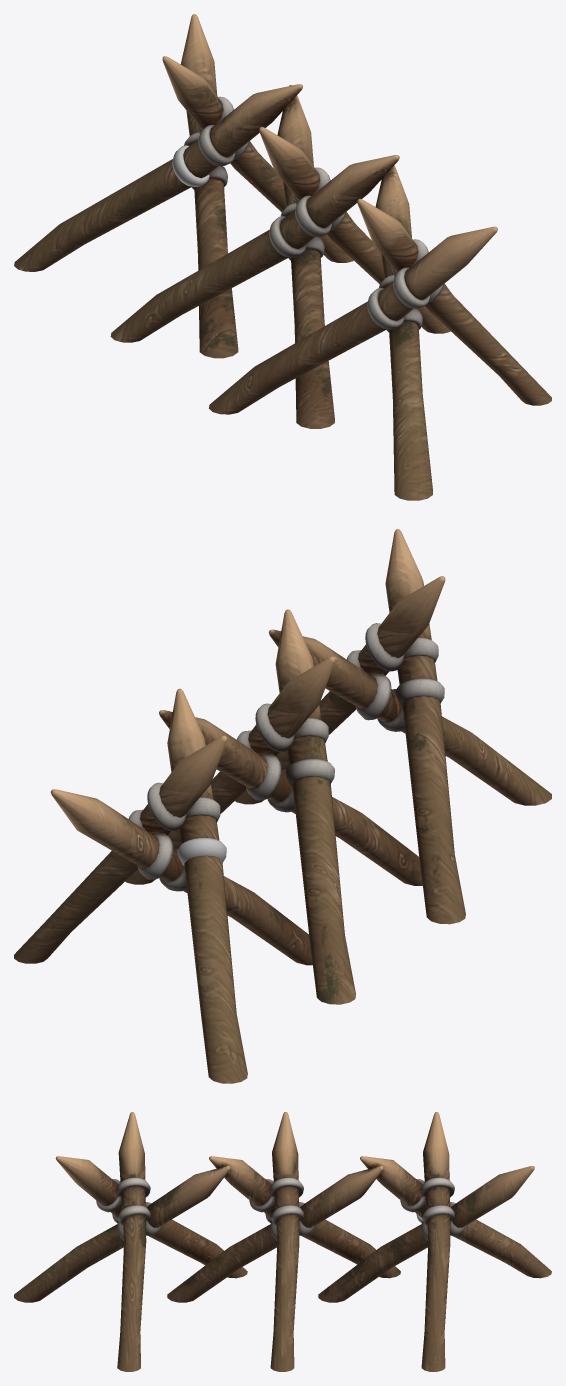
File: WoodenFence.fbx
The picture shows the model from 3 angles, top to bottom: view 1: azimuth 30°, elevation 25°; view 2: azimuth 150°, elevation 25°; view 3: azimuth 270°, elevation 25°; orthographic projection. The views are drawn at different scales.
Parts seen in each view (by area): view 1: Cylinder.003; view 2: Cylinder.003; view 3: Cylinder.003.
Part boxes in pixels (x1=…): Cylinder.003: x1=14, y1=14, x2=551, y2=500; Cylinder.003: x1=14, y1=529, x2=551, y2=1083; Cylinder.003: x1=14, y1=1112, x2=551, y2=1371.
Size of the model in its own units: 2.06 by 1.76 by 4.53.
